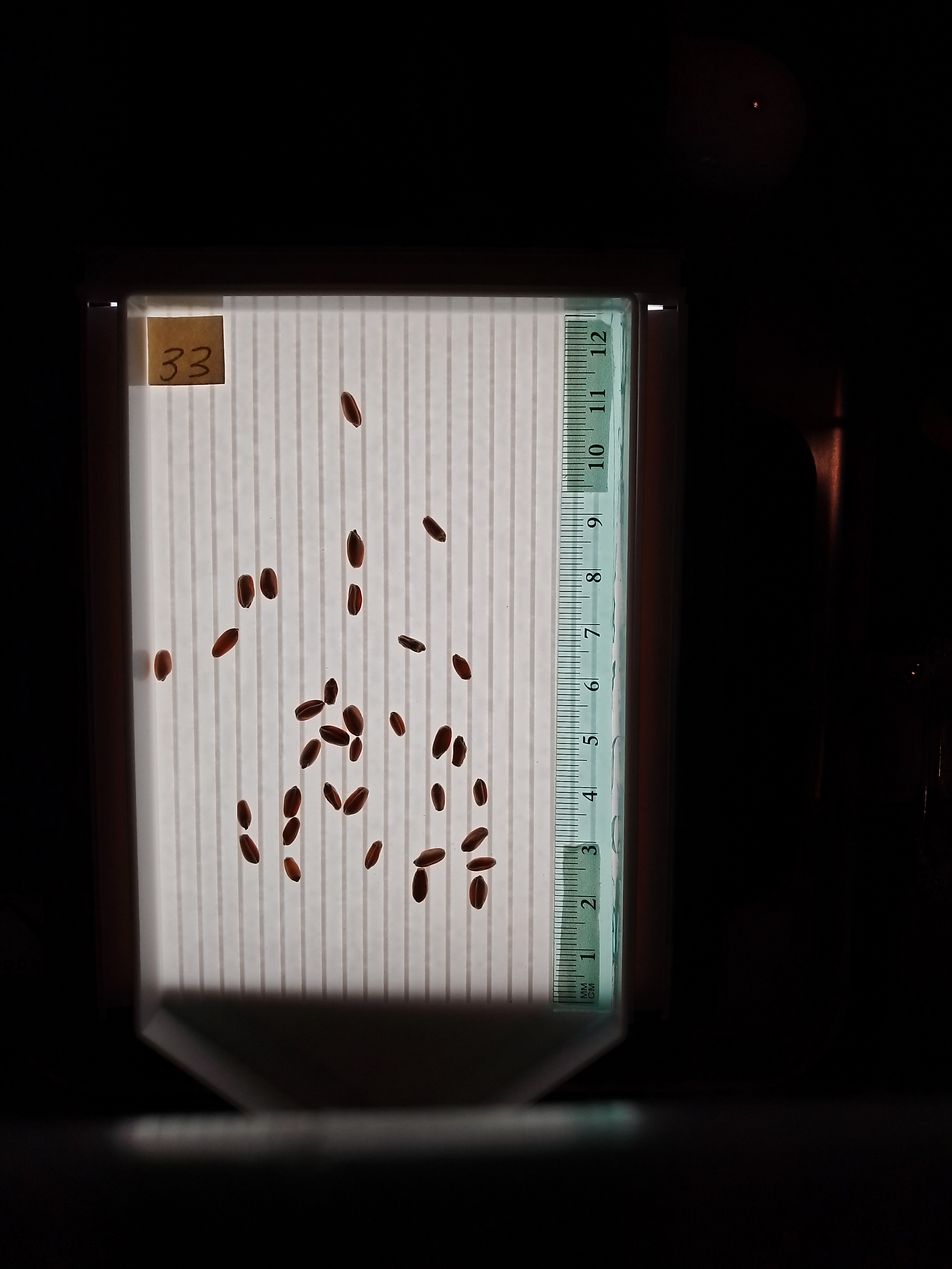seed mask: (212, 629, 238, 657), (341, 393, 361, 427), (461, 827, 487, 853), (343, 705, 364, 737), (347, 531, 365, 567), (344, 788, 368, 814), (295, 700, 324, 721), (424, 516, 446, 543), (237, 575, 255, 608), (469, 878, 488, 909), (321, 725, 349, 746), (433, 726, 451, 758), (240, 834, 259, 864), (415, 849, 445, 868), (300, 740, 320, 768), (154, 650, 172, 681), (283, 787, 301, 818), (261, 568, 278, 599), (347, 585, 363, 615), (413, 871, 428, 902), (283, 818, 300, 845), (453, 655, 472, 679), (399, 635, 424, 653), (365, 842, 382, 868), (237, 800, 252, 829), (324, 785, 341, 810), (284, 858, 301, 882), (468, 857, 495, 872), (473, 779, 488, 805), (453, 737, 466, 766), (432, 784, 445, 811), (324, 679, 338, 704), (390, 713, 405, 736), (350, 740, 362, 761)
